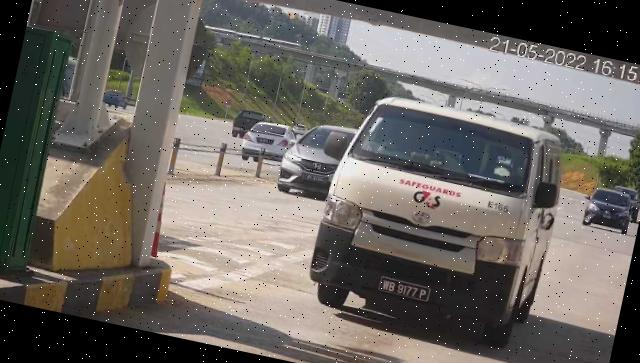License_Plate: (376, 275, 436, 307)
van: (303, 86, 572, 355)
